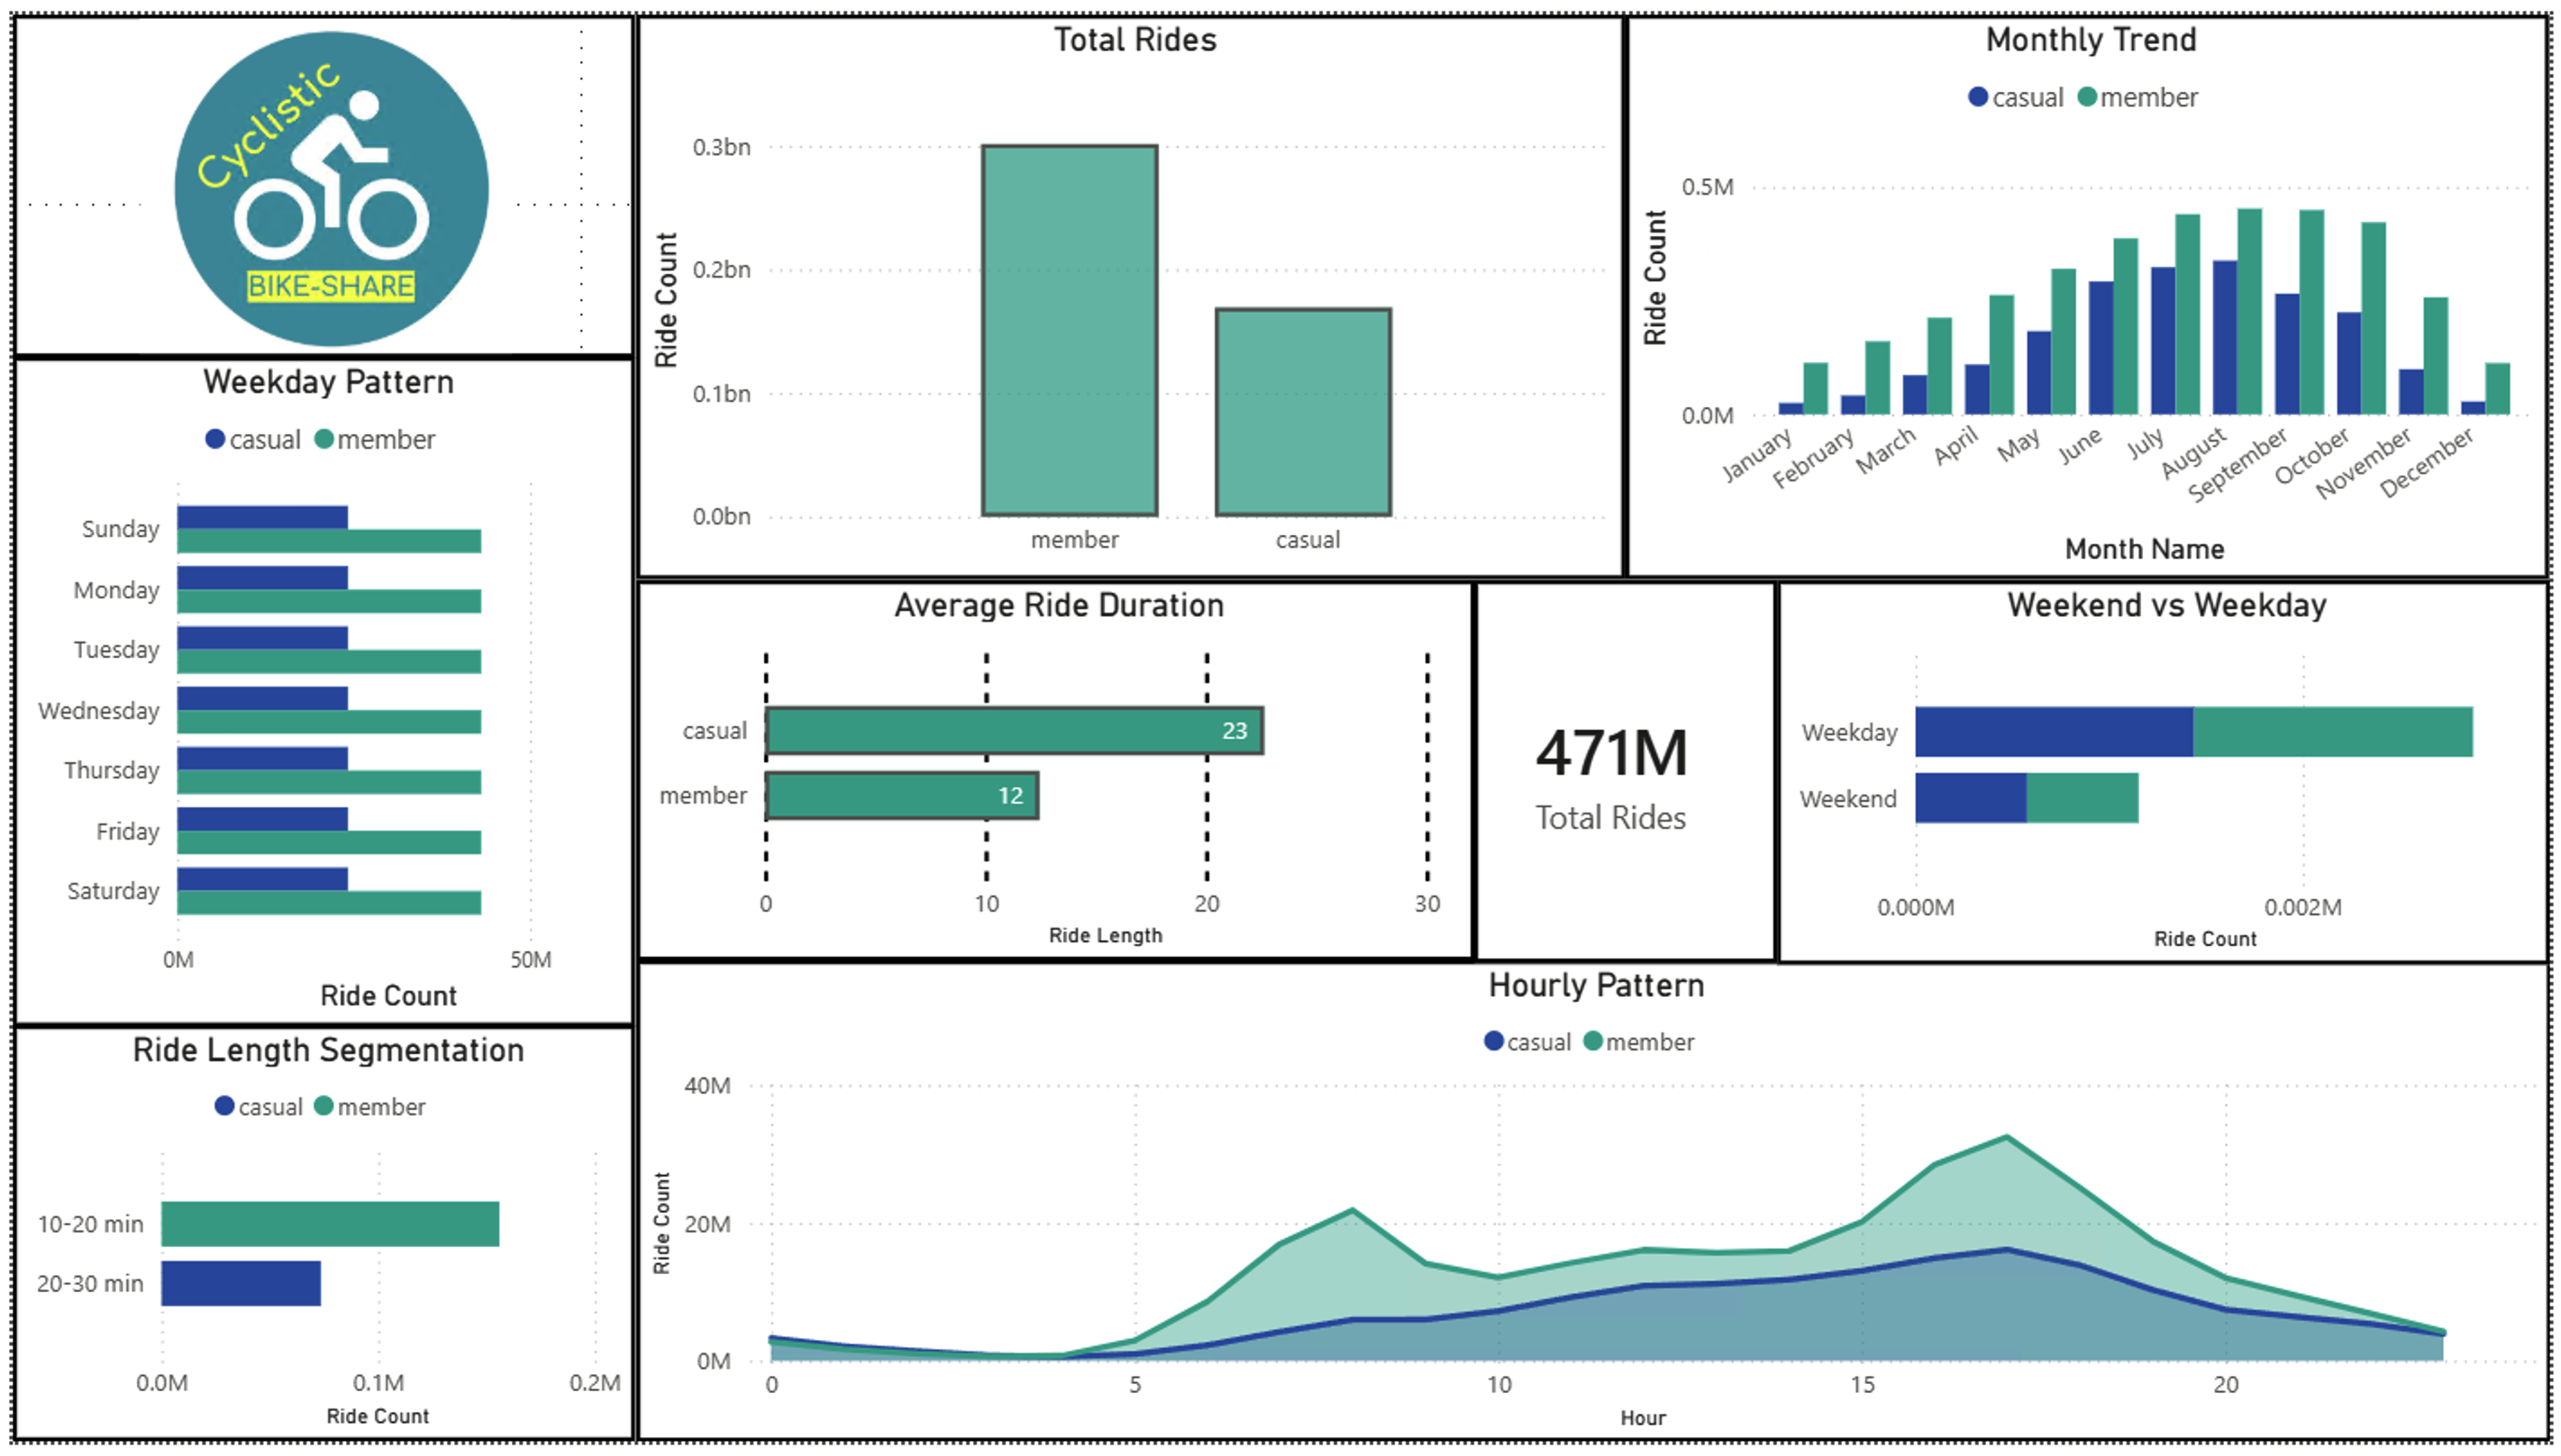

Layout of this report page (visuals, bound fields, positions):
{"tool":"powerbi","page":{"name":"Cyclistic Analysis","canvas":[1280,720],"ordinal":0},"visuals":[{"type":"columnChart","title":"Total Rides","fields":{"Category":["final_dashboard_data.member_casual"],"Y":["Sum(final_dashboard_data.ride_count)"]},"box":[314.5,0,499.3,285.3],"z":0},{"type":"barChart","title":"Average Ride Duration","fields":{"Category":["final_dashboard_data.member_casual"],"Y":["Avg(final_dashboard_data.avg_ride_length)"]},"box":[314.5,285.3,423,191.9],"z":1000},{"type":"image","box":[0,0,314.5,172.8],"z":2000},{"type":"clusteredBarChart","title":"Weekday Pattern","fields":{"Category":["final_dashboard_data.day_of_week"],"Series":["final_dashboard_data.member_casual"],"Y":["Sum(final_dashboard_data.ride_count)"]},"box":[0,172.8,314.5,337.6],"z":3000},{"type":"clusteredColumnChart","title":"Monthly Trend","fields":{"Category":["rides_by_month.month_name"],"Y":["rides_by_month.Monthly Rides"],"Series":["rides_by_month.member_casual"]},"box":[813.8,0,466.2,285],"z":4000},{"type":"areaChart","title":"Hourly Pattern","fields":{"Category":["final_dashboard_data.hour"],"Series":["final_dashboard_data.member_casual"],"Y":["Sum(final_dashboard_data.ride_count)"]},"box":[314.5,477.2,965.5,243.1],"z":5000},{"type":"barChart","title":"Weekend vs Weekday","fields":{"Category":["final_dashboard_data.Day Type"],"Series":["final_dashboard_data.member_casual"],"Y":["CountNonNull(final_dashboard_data.ride_count)"]},"box":[890,285,390,193.8],"z":6000},{"type":"barChart","title":"Ride Length Segmentation","fields":{"Category":["final_dashboard_data.Ride Length Bucket"],"Series":["final_dashboard_data.member_casual"],"Y":["Median(final_dashboard_data.ride_count)"]},"box":[0,510.4,314.5,210],"z":7000},{"type":"cardVisual","fields":{"Data":["final_dashboard_data.Total_Rides_Count"]},"box":[737.5,285,152.5,192.5],"z":8000}]}

Visuals, with their boxes in screenshot pixels (x1, y1, x2, y2), scaled from the page's 1280x720 canvas onto the 2561x1456 screenshot:
"Total Rides" columnChart: (629, 0, 1628, 577)
"Average Ride Duration" barChart: (629, 577, 1475, 965)
image: (0, 0, 629, 350)
"Weekday Pattern" clusteredBarChart: (0, 350, 629, 1033)
"Monthly Trend" clusteredColumnChart: (1628, 0, 2560, 577)
"Hourly Pattern" areaChart: (629, 965, 2560, 1455)
"Weekend vs Weekday" barChart: (1781, 577, 2560, 969)
"Ride Length Segmentation" barChart: (0, 1033, 629, 1455)
cardVisual - final_dashboard_data.Total_Rides_Count: (1475, 577, 1781, 966)
